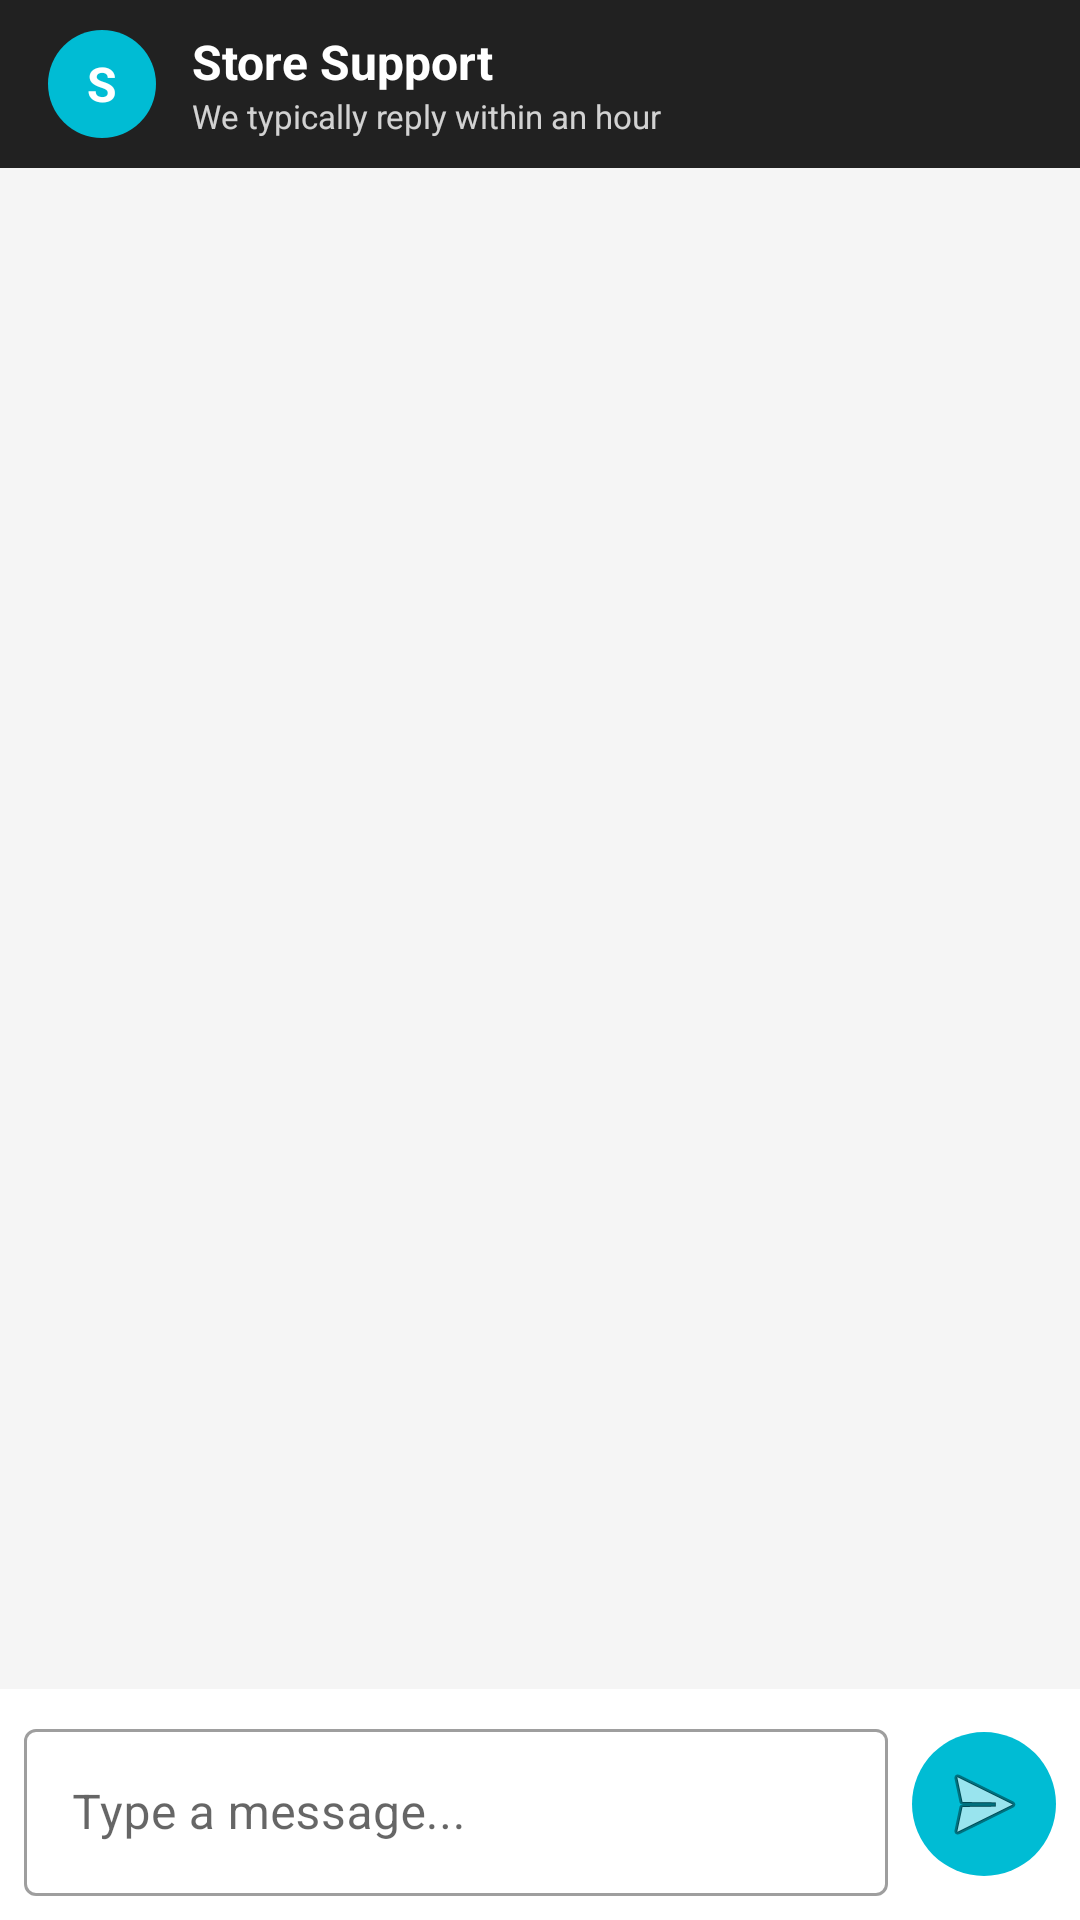

Icon bounding boxes for this 1080 x 1920 phone screenshot, format (x1, y1, x2, y2):
Send message: (912, 1732, 1056, 1876)
